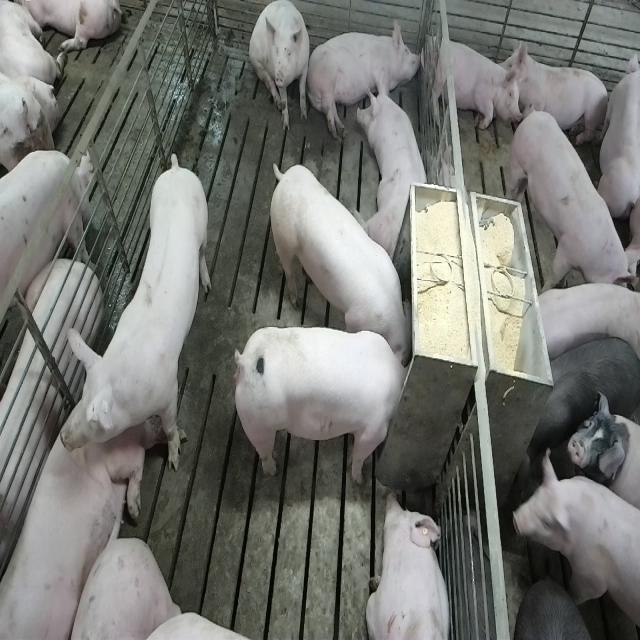Feeding: (265, 160, 412, 362), (239, 324, 418, 486)
Lateral_lying: (306, 19, 426, 144)
Sitting: (250, 1, 312, 135)
Standing: (61, 158, 211, 488), (509, 102, 635, 302), (512, 449, 638, 640), (0, 152, 94, 350), (528, 333, 639, 457), (526, 282, 639, 366)
Sternal_lying: (0, 378, 144, 640), (359, 71, 433, 259), (365, 490, 453, 640), (505, 40, 612, 153), (422, 33, 516, 133)
